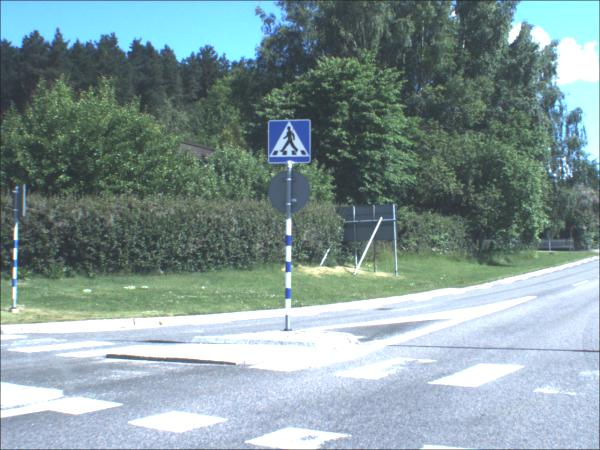PEDESTRIAN_CROSSING: (271, 120, 311, 165)
